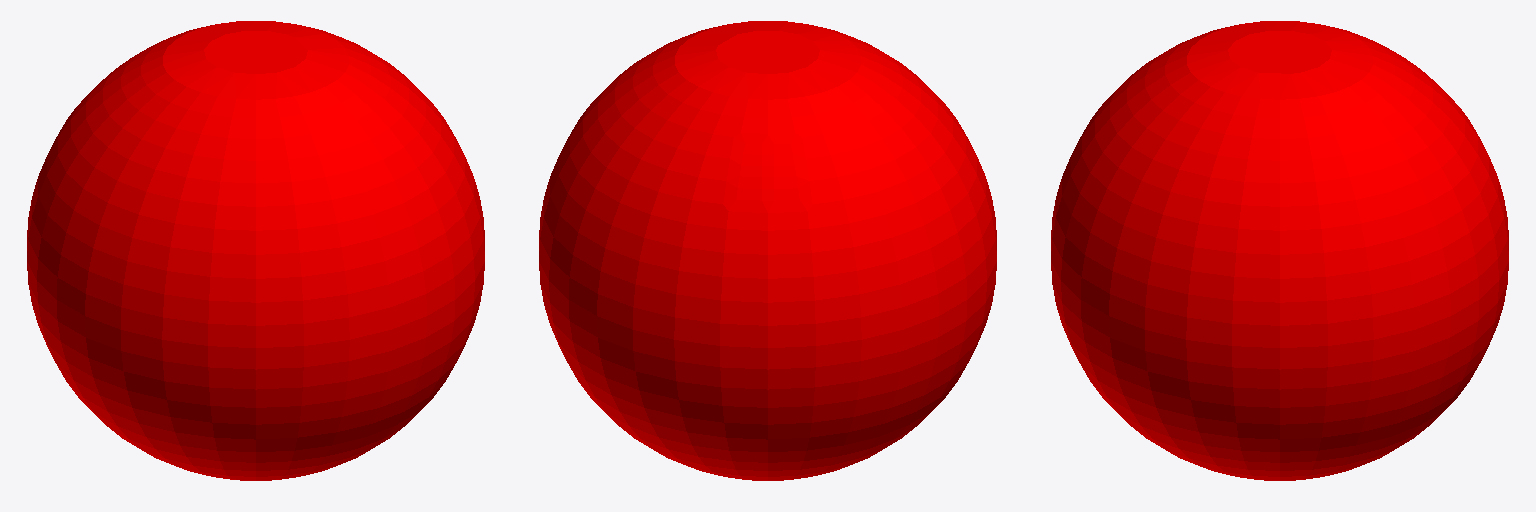
File: red.obj
3 renders of one model, left to right at view 1: azimuth 30°, elevation 25°; view 2: azimuth 150°, elevation 25°; view 3: azimuth 270°, elevation 25°, orthographic.
Visible parts, largest first — view 1: sphere1; view 2: sphere1; view 3: sphere1.
Boxes of the visible parts, x1,y1,x2,y2 form: sphere1: [27, 21, 484, 480]; sphere1: [539, 21, 996, 480]; sphere1: [1051, 21, 1508, 480].
Size of the model in its own units: 8 by 7.8 by 7.96.